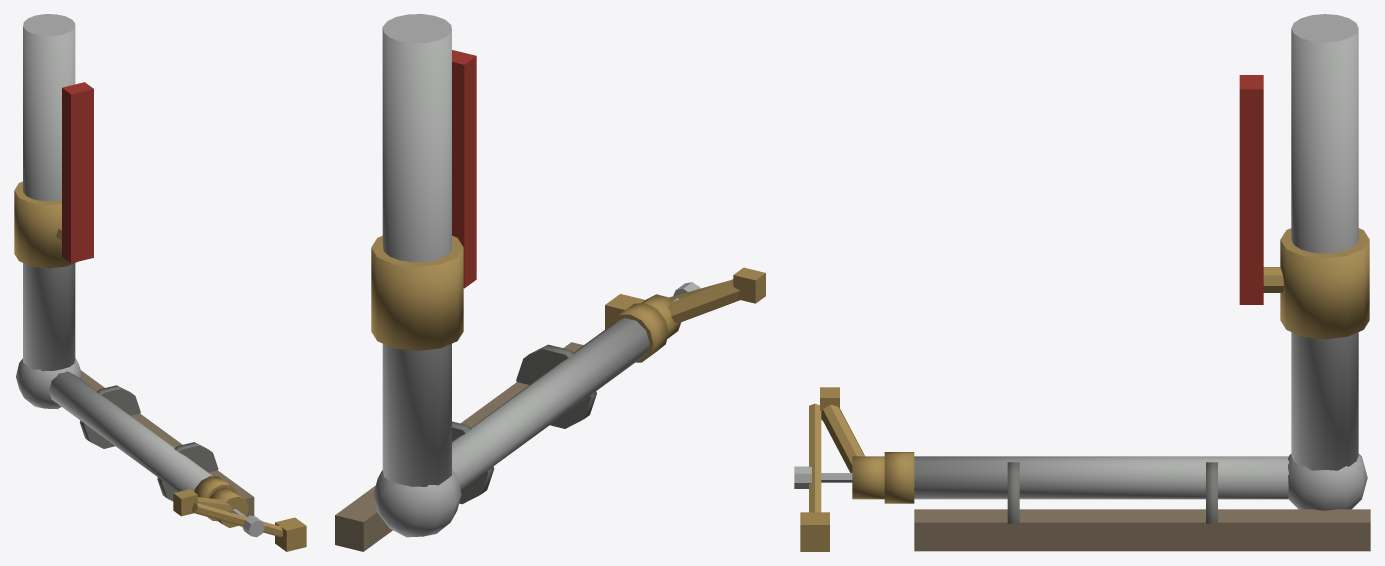
Rendered from sprinkler_manual_on.obj.
The picture shows the model from 3 angles, left to right: view 1: azimuth 30°, elevation 25°; view 2: azimuth 150°, elevation 25°; view 3: azimuth 270°, elevation 25°; orthographic projection. The views are drawn at different scales.
Visible parts, largest first — view 1: pipe4, riser, valve_lever, valve_body, elbow, tie0.16, stake, tie0.36, head_weight, head_arm, head_body, head_bearing (+2 smaller); view 2: pipe4, riser, valve_body, valve_lever, elbow, stake, tie0.36, head_nozzle, head_bearing, head_spoon, tie0.16, head_body (+1 smaller); view 3: pipe4, stake, riser, valve_body, valve_lever, elbow, head_bearing, head_body, head_arm, head_nozzle, head_weight, tie0.36 (+1 smaller).
Part boxes in pixels (<box>): pipe4: <box>23,14,75,371</box>; riser: <box>48,371,212,491</box>; valve_lever: <box>62,82,93,263</box>; valve_body: <box>14,181,76,268</box>; elbow: <box>16,358,82,409</box>; tie0.16: <box>79,385,140,448</box>; stake: <box>80,370,254,516</box>; tie0.36: <box>157,442,218,501</box>; head_weight: <box>275,517,306,551</box>; head_arm: <box>191,503,282,537</box>; head_body: <box>209,487,248,527</box>; head_bearing: <box>194,476,237,521</box>; pipe4: <box>382,14,451,486</box>; riser: <box>452,318,649,489</box>; valve_body: <box>371,235,463,350</box>; valve_lever: <box>452,50,476,288</box>; elbow: <box>373,470,461,537</box>; stake: <box>335,342,583,551</box>; tie0.36: <box>516,344,596,428</box>; head_nozzle: <box>668,279,739,322</box>; head_bearing: <box>609,303,668,362</box>; head_spoon: <box>733,267,765,303</box>; tie0.16: <box>452,421,494,504</box>; head_body: <box>641,294,680,338</box>; pipe4: <box>1291,14,1358,470</box>; stake: <box>914,509,1370,551</box>; riser: <box>914,456,1288,499</box>; valve_body: <box>1280,228,1369,339</box>; valve_lever: <box>1239,75,1263,304</box>; elbow: <box>1288,453,1367,510</box>; head_bearing: <box>884,452,914,503</box>; head_body: <box>852,456,884,499</box>; head_arm: <box>809,403,821,512</box>; head_nozzle: <box>821,405,864,472</box>; head_weight: <box>800,512,829,551</box>; tie0.36: <box>1007,462,1019,523</box>.
Size of the model in its own units: 0.1751 by 0.5569 by 0.581.
Materials: 5 (5 with a texture image).
